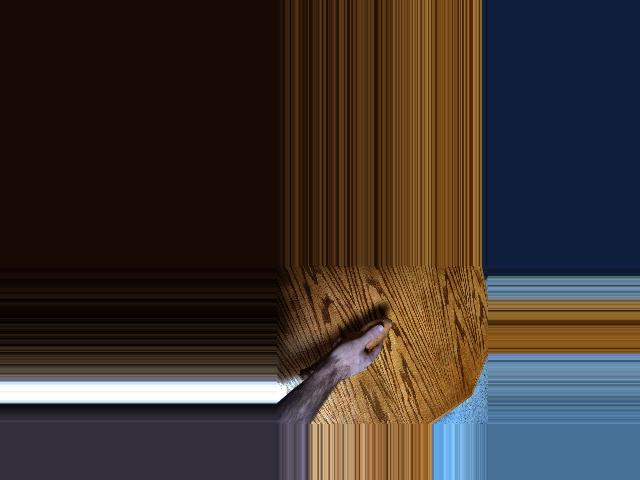sweet_potato: (296, 318, 393, 381)
